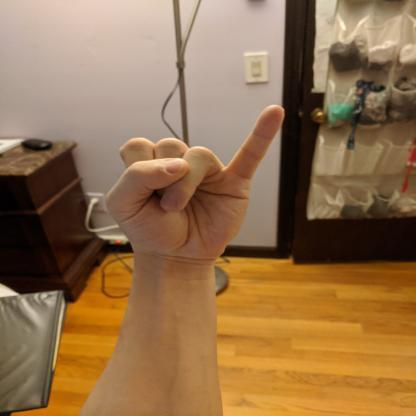I: (99, 100, 290, 266)
